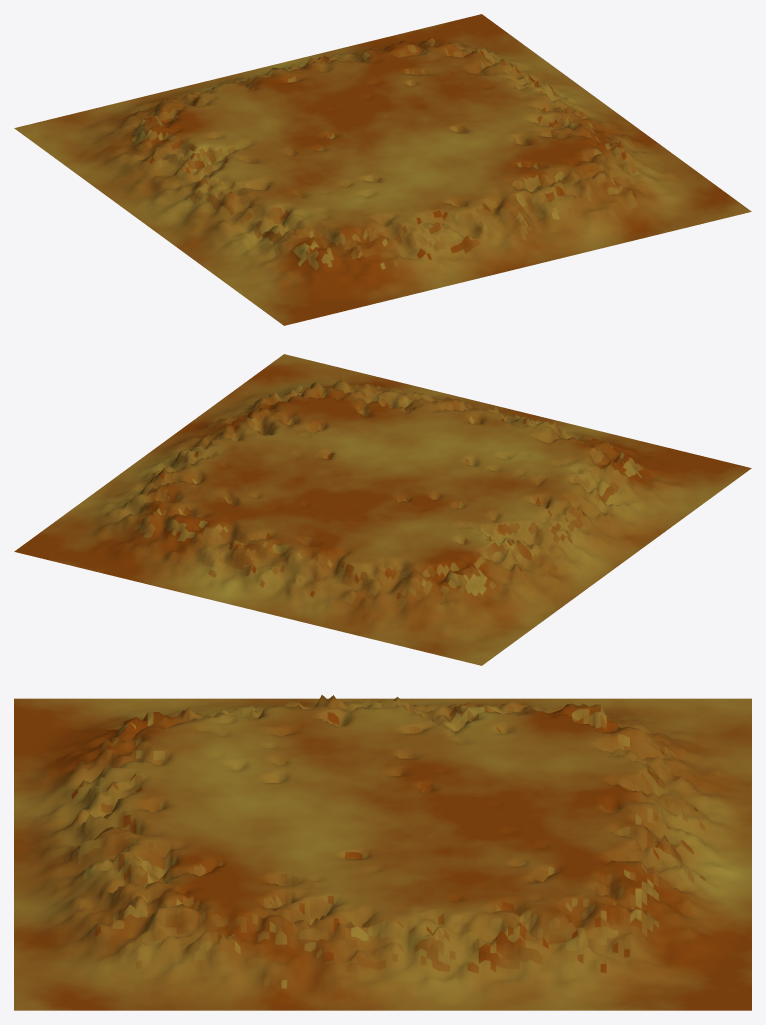
File: Landscape.gltf
The picture shows the model from 3 angles, top to bottom: view 1: azimuth 30°, elevation 25°; view 2: azimuth 150°, elevation 25°; view 3: azimuth 270°, elevation 25°; orthographic projection. The views are drawn at different scales.
Parts seen in each view (by area): view 1: Landscape-col; view 2: Landscape-col; view 3: Landscape-col.
Boxes of the visible parts, left/top/right/bottom form: Landscape-col: left=14, top=14, right=751, bottom=325; Landscape-col: left=14, top=354, right=751, bottom=665; Landscape-col: left=14, top=695, right=751, bottom=1010.
Size of what is drawn, in the model's own units: 2 by 0.13 by 2.
Materials: 1 (1 with a texture image).
